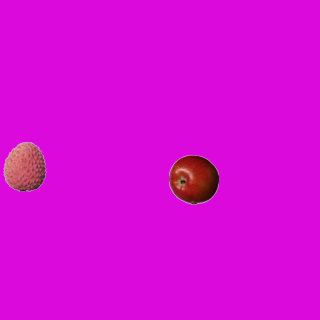Apple Braeburn: (168, 154, 218, 204)
Lychee: (0, 141, 49, 191)
